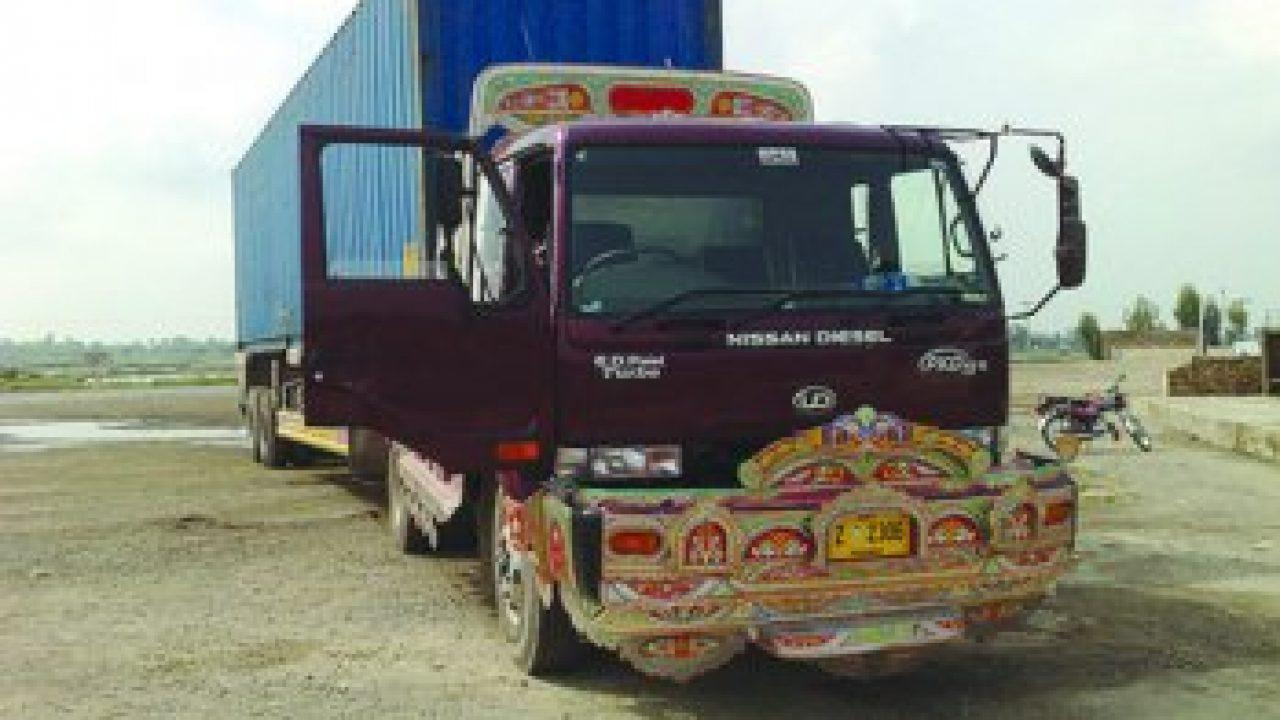truck: (231, 0, 1091, 681)
